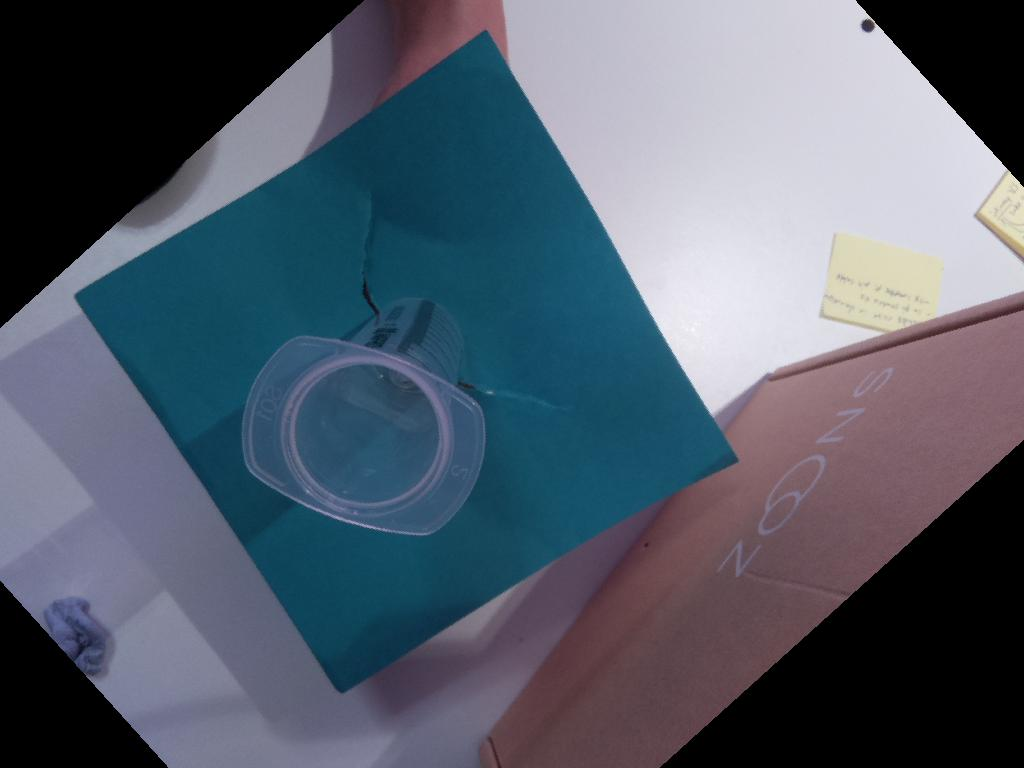clean: (236, 331, 489, 539)
